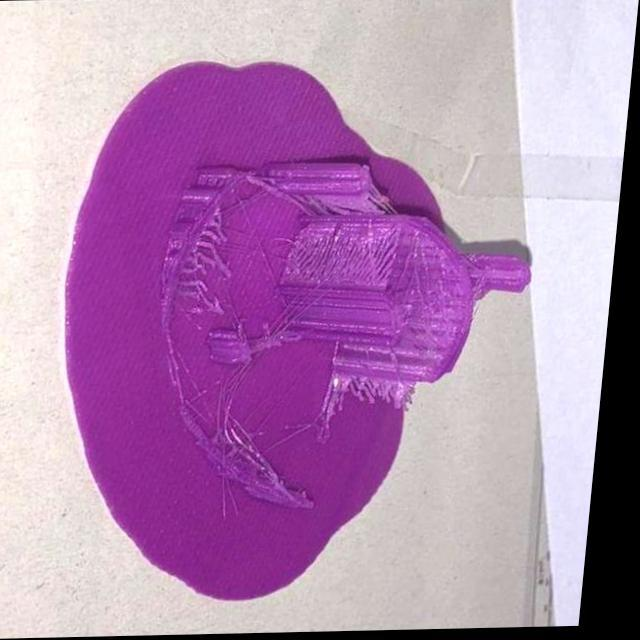stringing: (352, 230, 401, 290), (298, 230, 356, 280), (221, 413, 266, 455), (184, 264, 218, 306), (340, 372, 385, 400), (375, 376, 419, 404), (209, 211, 234, 251)
